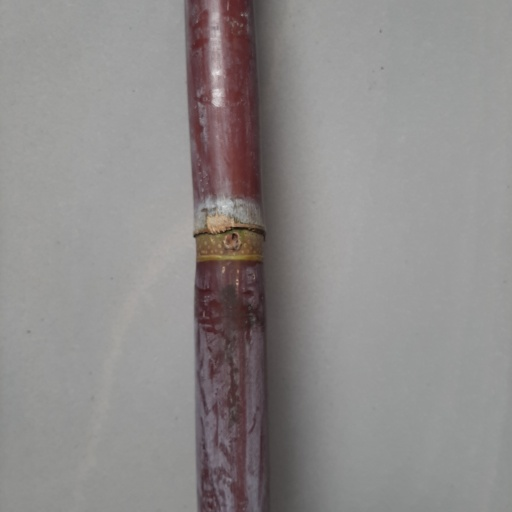Damage_Bud: (223, 232, 241, 251)
